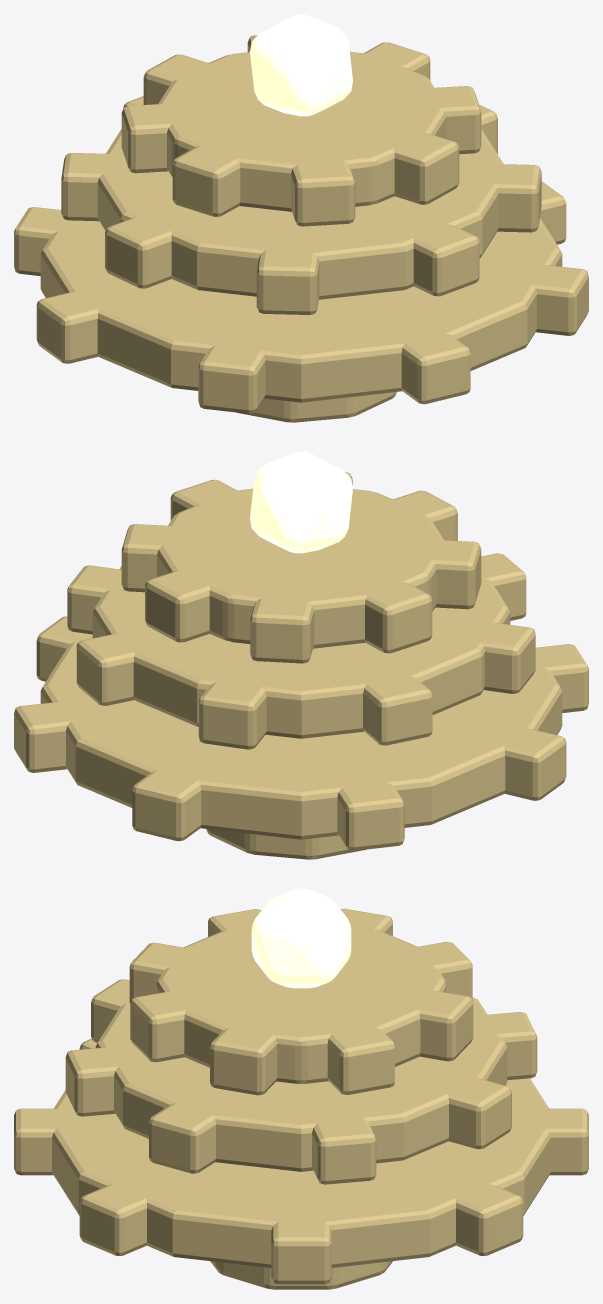
The model's file is turret_gear.glb.
The picture shows the model from 3 angles, top to bottom: view 1: azimuth 30°, elevation 25°; view 2: azimuth 150°, elevation 25°; view 3: azimuth 270°, elevation 25°; orthographic projection.
Parts seen in each view (by area): view 1: turret_gear; view 2: turret_gear; view 3: turret_gear.
Boxes of the visible parts, x1,y1,x2,y2 form: turret_gear: [14, 14, 588, 422]; turret_gear: [14, 451, 588, 859]; turret_gear: [14, 888, 588, 1289].
Size of the model in its own units: 0.67 by 0.4644 by 0.67.
